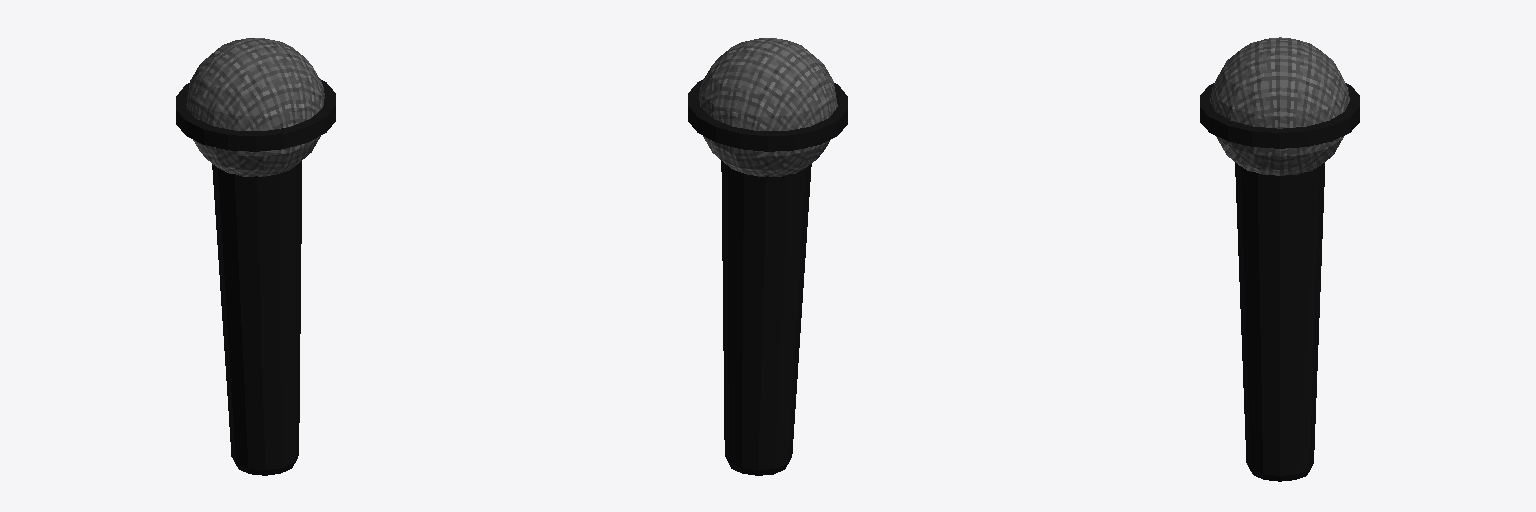
3 views of the same model, side by side, from view 1: azimuth 30°, elevation 25°; view 2: azimuth 150°, elevation 25°; view 3: azimuth 270°, elevation 25° (orthographic).
Parts seen in each view (by area): view 1: g1_Body_Geo; view 2: g1_Body_Geo; view 3: g1_Body_Geo.
Boxes of the visible parts, box(x1,y1,x2,y2) form: g1_Body_Geo: box(176, 38, 335, 475); g1_Body_Geo: box(688, 38, 847, 475); g1_Body_Geo: box(1200, 37, 1359, 481).
Size of the model in its own units: 0.1108 by 0.3189 by 0.1088.
Materials: 1 (1 with a texture image).